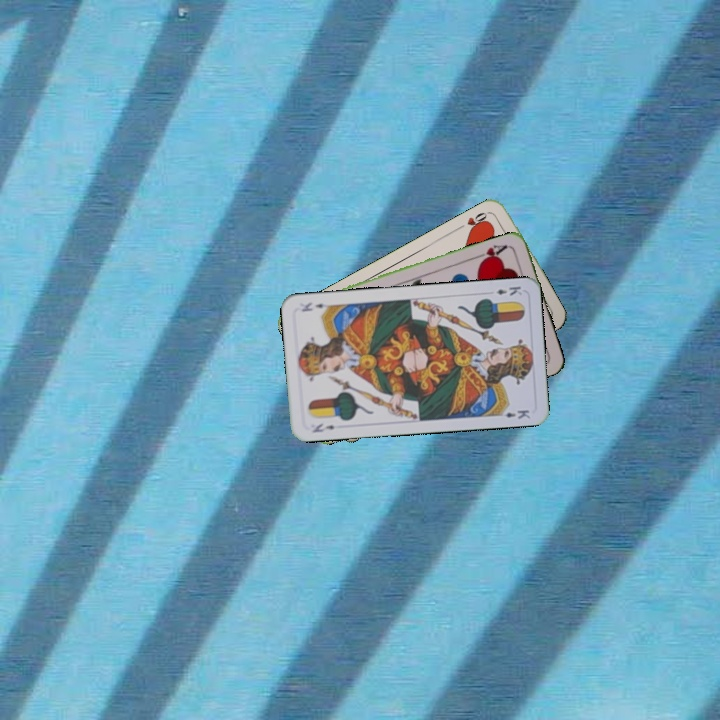EK: (492, 282, 524, 298), (308, 419, 337, 435)
HA: (472, 241, 512, 266)
HO: (455, 207, 493, 235)
